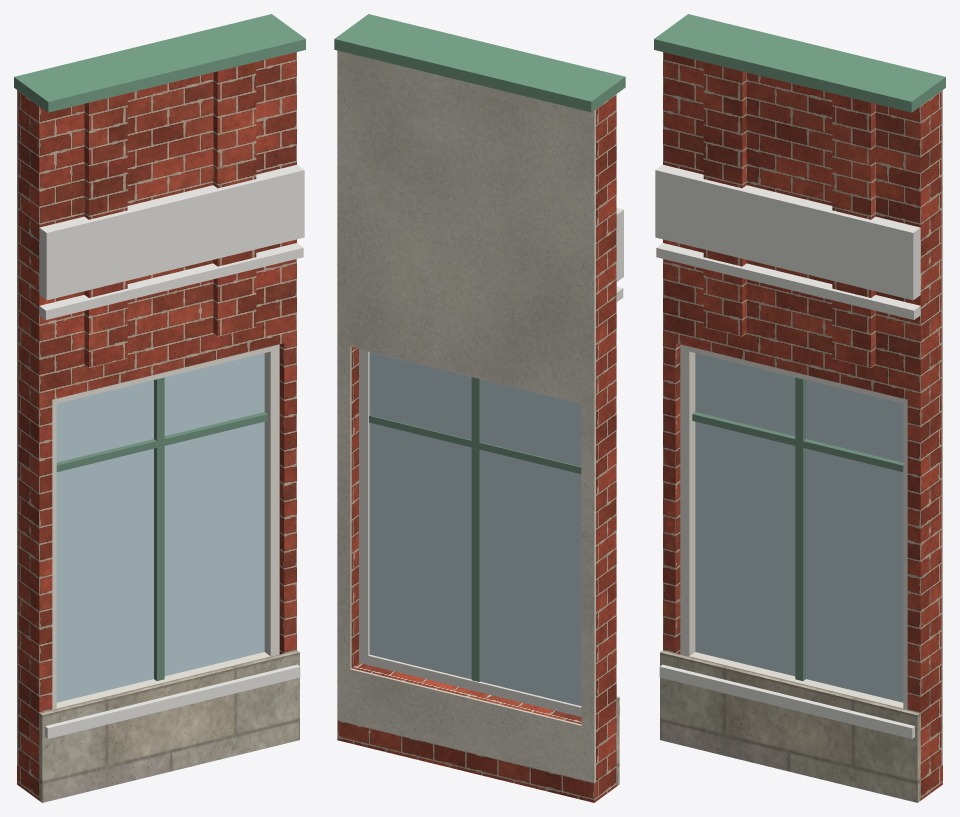
The model's file is wall_storefront.glb.
3 renders of one model, left to right at view 1: azimuth 30°, elevation 25°; view 2: azimuth 150°, elevation 25°; view 3: azimuth 330°, elevation 25°, orthographic.
Visible parts, largest first — view 1: wall_storefront_brick, wall_storefront_glass, wall_storefront_trim, wall_storefront_stone, wall_storefront_coping, wall_storefront_frame, wall_storefront_frame2, wall_storefront_plaster; view 2: wall_storefront_plaster, wall_storefront_glass, wall_storefront_brick, wall_storefront_coping, wall_storefront_frame, wall_storefront_frame2, wall_storefront_trim; view 3: wall_storefront_brick, wall_storefront_glass, wall_storefront_trim, wall_storefront_stone, wall_storefront_coping, wall_storefront_frame, wall_storefront_frame2, wall_storefront_plaster.
Boxes of the visible parts, bbox=[...] form: wall_storefront_brick: bbox=[17, 52, 296, 800]; wall_storefront_glass: bbox=[56, 353, 264, 702]; wall_storefront_trim: bbox=[39, 165, 304, 738]; wall_storefront_stone: bbox=[39, 650, 299, 802]; wall_storefront_coping: bbox=[14, 14, 305, 112]; wall_storefront_frame: bbox=[52, 344, 279, 709]; wall_storefront_frame2: bbox=[56, 377, 267, 680]; wall_storefront_plaster: bbox=[17, 90, 18, 764]; wall_storefront_plaster: bbox=[337, 50, 595, 782]; wall_storefront_glass: bbox=[369, 352, 581, 705]; wall_storefront_brick: bbox=[337, 94, 616, 802]; wall_storefront_coping: bbox=[334, 14, 625, 112]; wall_storefront_frame: bbox=[359, 349, 581, 716]; wall_storefront_frame2: bbox=[369, 377, 581, 681]; wall_storefront_trim: bbox=[616, 208, 623, 716]; wall_storefront_brick: bbox=[663, 52, 942, 800]; wall_storefront_glass: bbox=[695, 353, 903, 702]; wall_storefront_trim: bbox=[655, 165, 920, 738]; wall_storefront_stone: bbox=[660, 650, 920, 802]; wall_storefront_coping: bbox=[654, 14, 945, 112]; wall_storefront_frame: bbox=[680, 344, 907, 709]; wall_storefront_frame2: bbox=[692, 377, 903, 680]; wall_storefront_plaster: bbox=[941, 90, 942, 764].
Bounding box in the file's own units: 2 × 5.23 × 0.46.
Materials: 8 (3 with a texture image).
